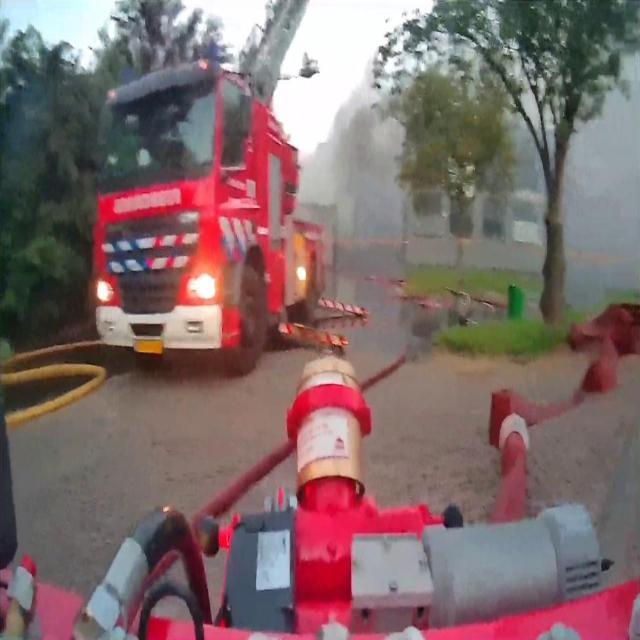Fire: (448, 150, 474, 198)
Smoke: (302, 53, 404, 266)
